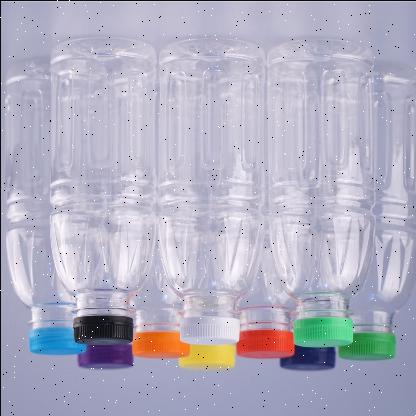Plastic Bottle: (48, 25, 158, 366), (154, 28, 264, 348), (266, 43, 340, 349), (340, 79, 416, 355)
